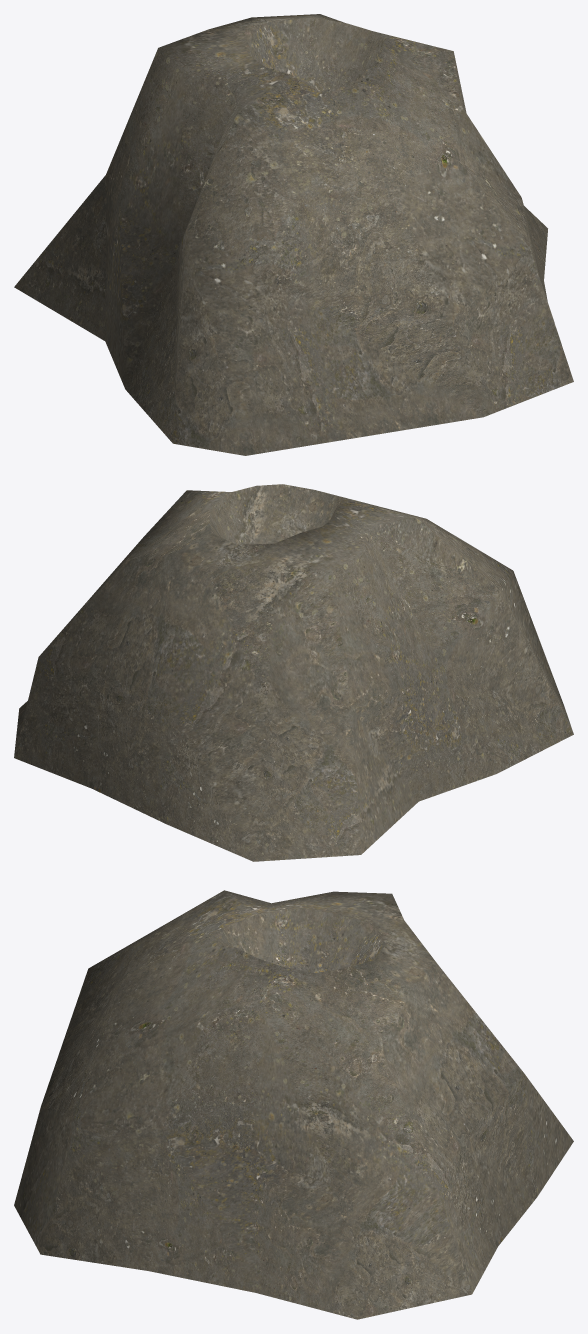
Rendered from geyser.glb.
3 renders of one model, top to bottom at view 1: azimuth 30°, elevation 25°; view 2: azimuth 150°, elevation 25°; view 3: azimuth 270°, elevation 25°, orthographic. The views are drawn at different scales.
Visible parts, largest first — view 1: Geyser; view 2: Geyser; view 3: Geyser.
Part boxes in pixels (left/top/right/bottom): Geyser: left=14, top=14, right=573, bottom=455; Geyser: left=14, top=484, right=573, bottom=861; Geyser: left=14, top=890, right=573, bottom=1319.
Bounding box in the file's own units: 2.87 × 1.46 × 2.86.
Materials: 1 (1 with a texture image).
